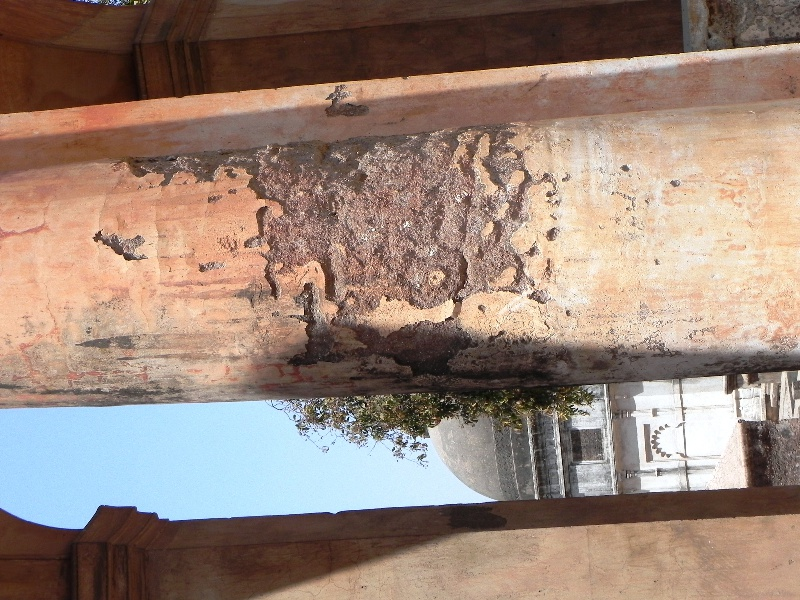Spalling: (241, 135, 547, 393), (118, 140, 244, 190), (92, 226, 168, 265), (313, 86, 381, 120)
